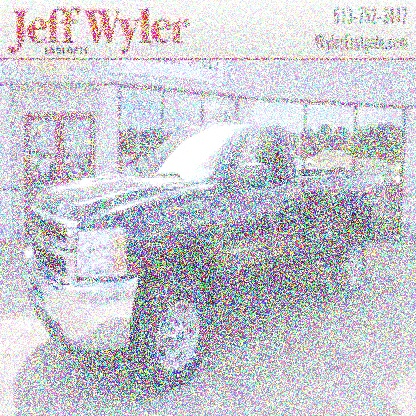Vehicle: (24, 120, 390, 392)
